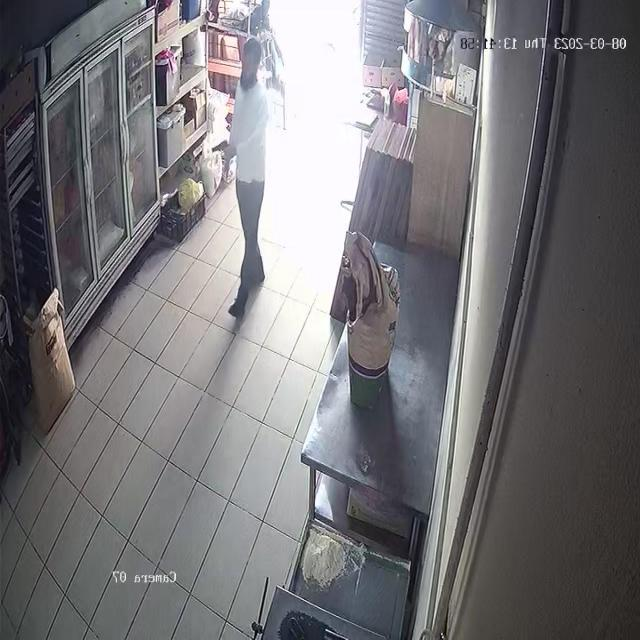Gun: (204, 136, 243, 170)
